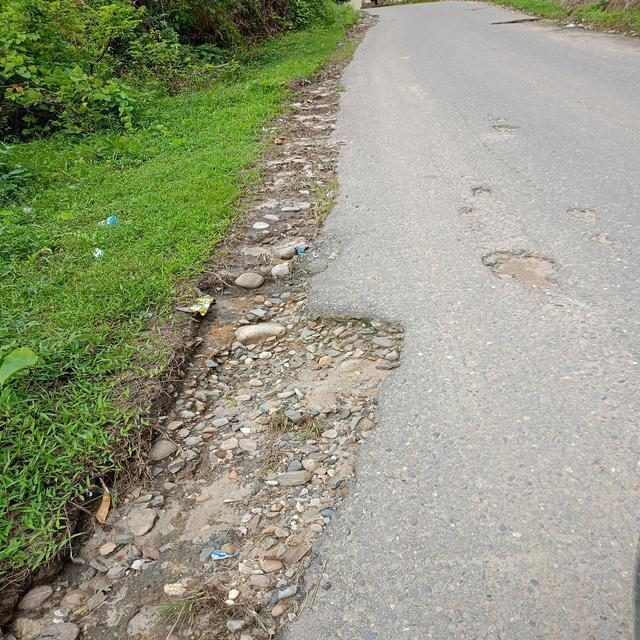Lubang: (472, 245, 562, 292)
Pinggir: (155, 117, 416, 640)
